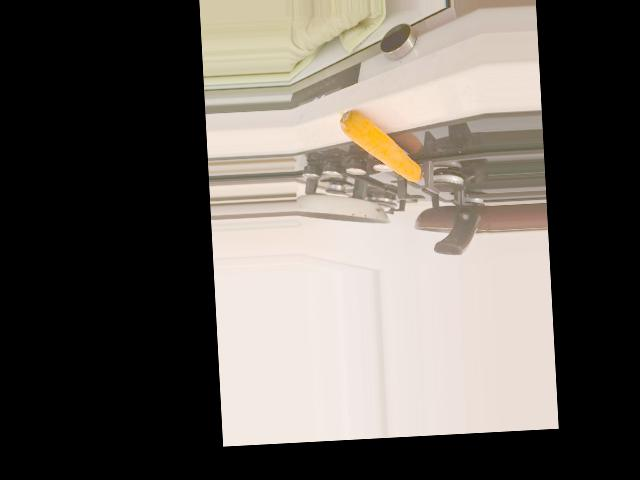carrot: (340, 104, 424, 187)
